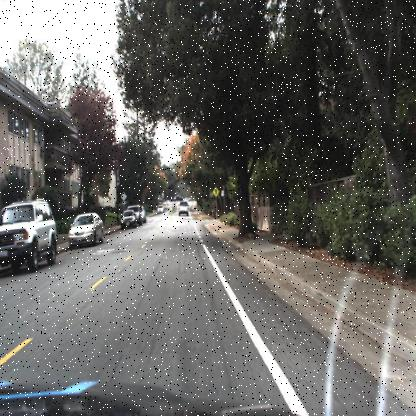car: (0, 198, 59, 275), (67, 209, 104, 245), (120, 207, 138, 228), (177, 198, 189, 220)
